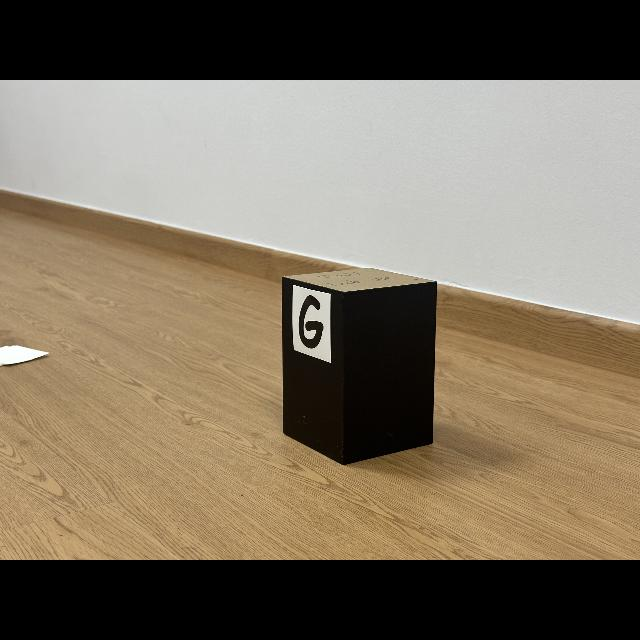G: (299, 295, 324, 349)
